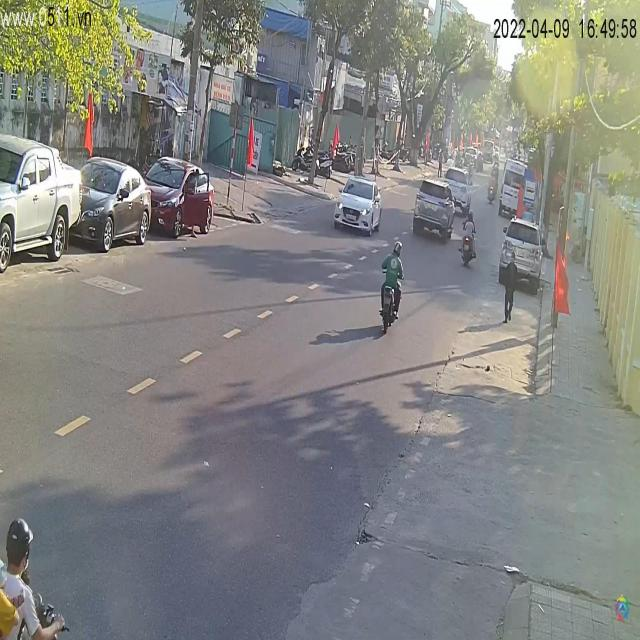car: (1, 134, 84, 277), (72, 158, 154, 253), (141, 155, 216, 240), (498, 209, 543, 288), (335, 176, 384, 235), (414, 178, 456, 243), (496, 158, 540, 220)
motorcycle: (379, 263, 405, 336), (459, 235, 478, 267)
